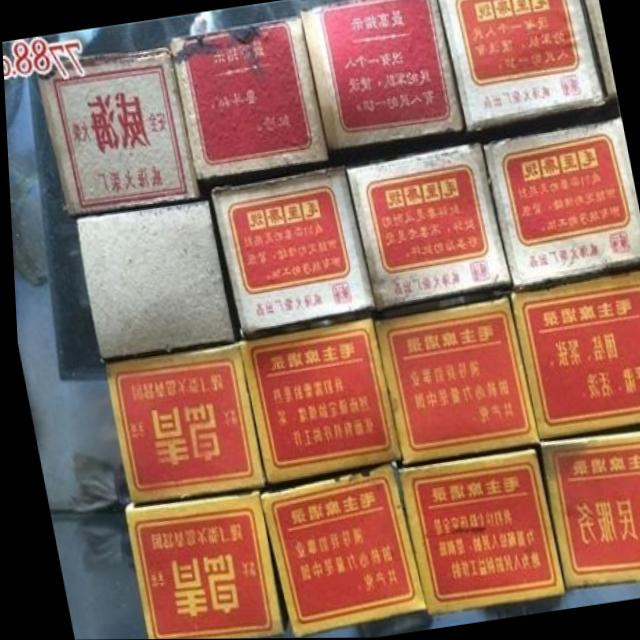box: (254, 463, 419, 636), (390, 448, 560, 615), (480, 115, 640, 289), (343, 143, 507, 311), (209, 168, 373, 336), (370, 297, 534, 464), (34, 50, 196, 214), (235, 319, 396, 484), (168, 17, 326, 180), (101, 345, 264, 500), (300, 0, 465, 150), (74, 200, 231, 356), (119, 493, 283, 639), (509, 270, 640, 441), (439, 0, 604, 132), (534, 428, 640, 590), (582, 0, 616, 99)
